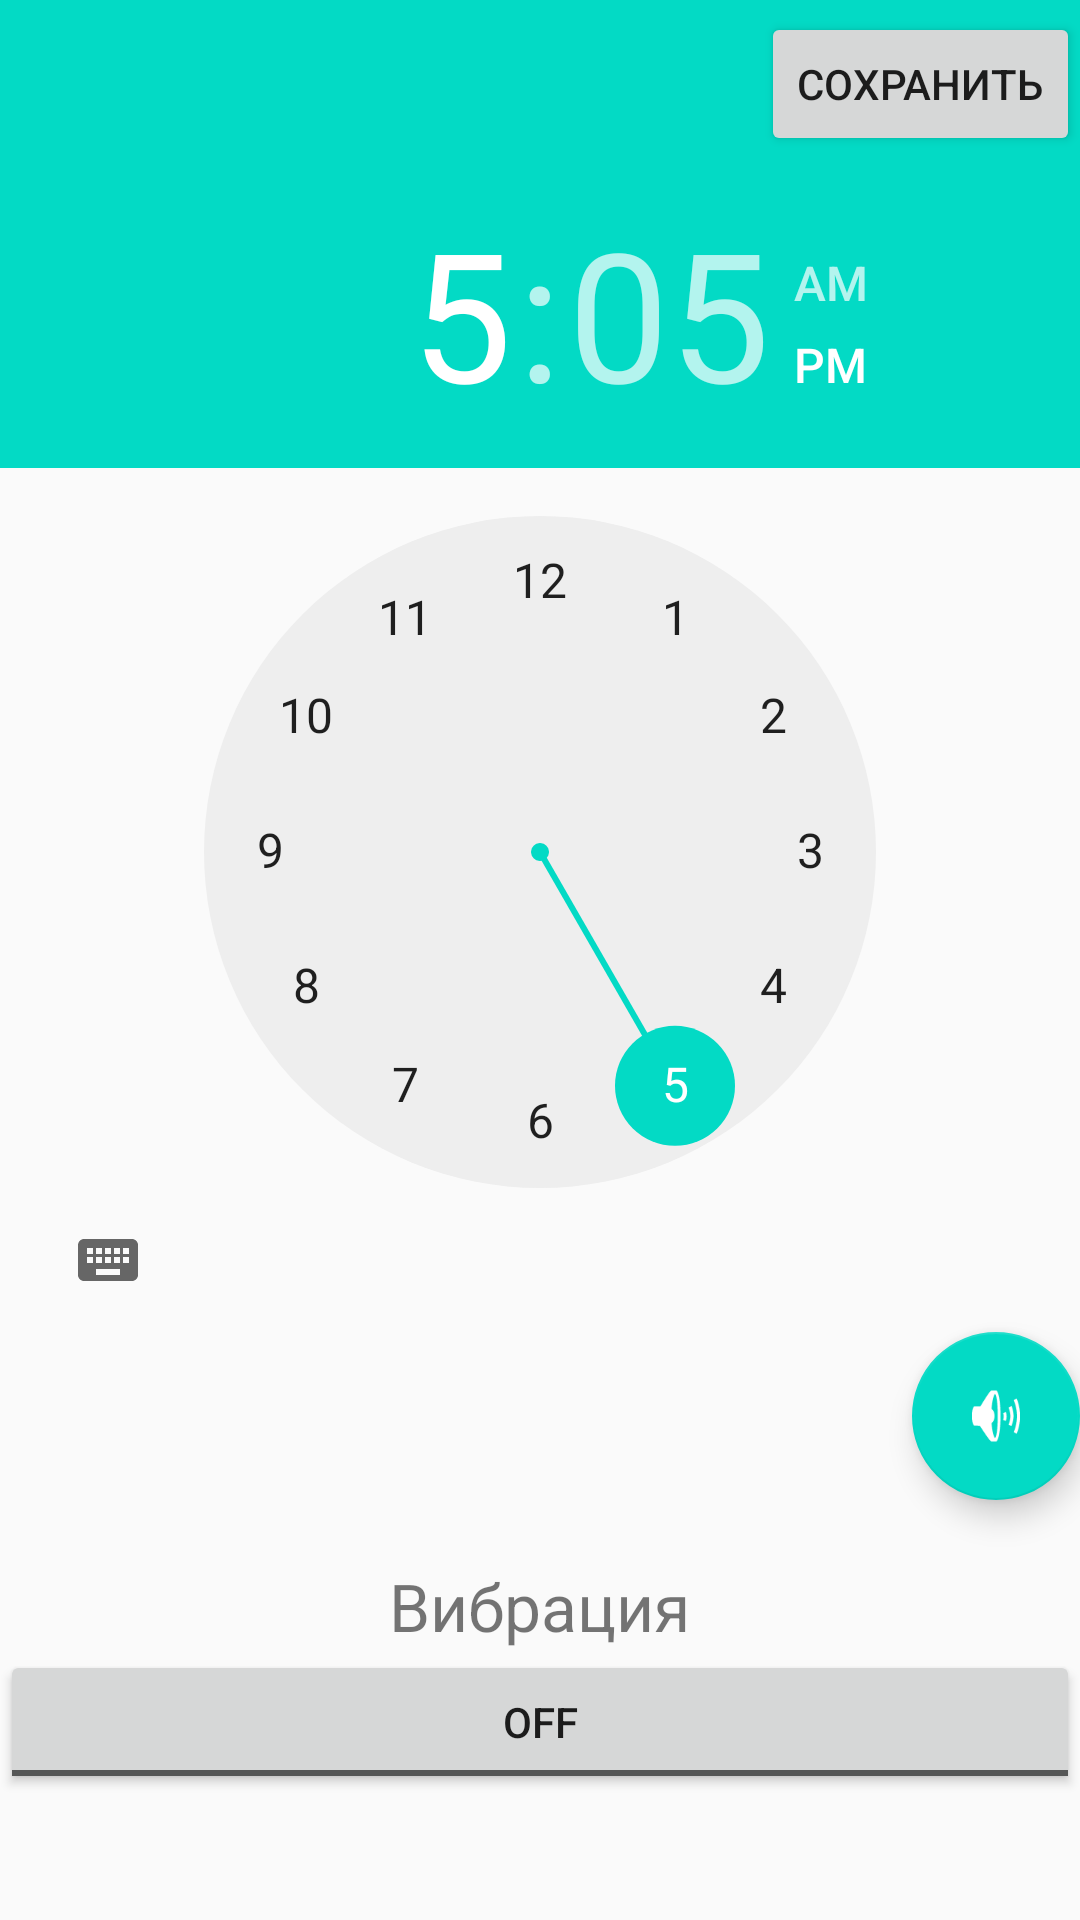

Where icons sit on this 1080*1920 app screen, as (x1, y1, x2, y2):
lock silent mode off: (912, 1332, 1080, 1500)
